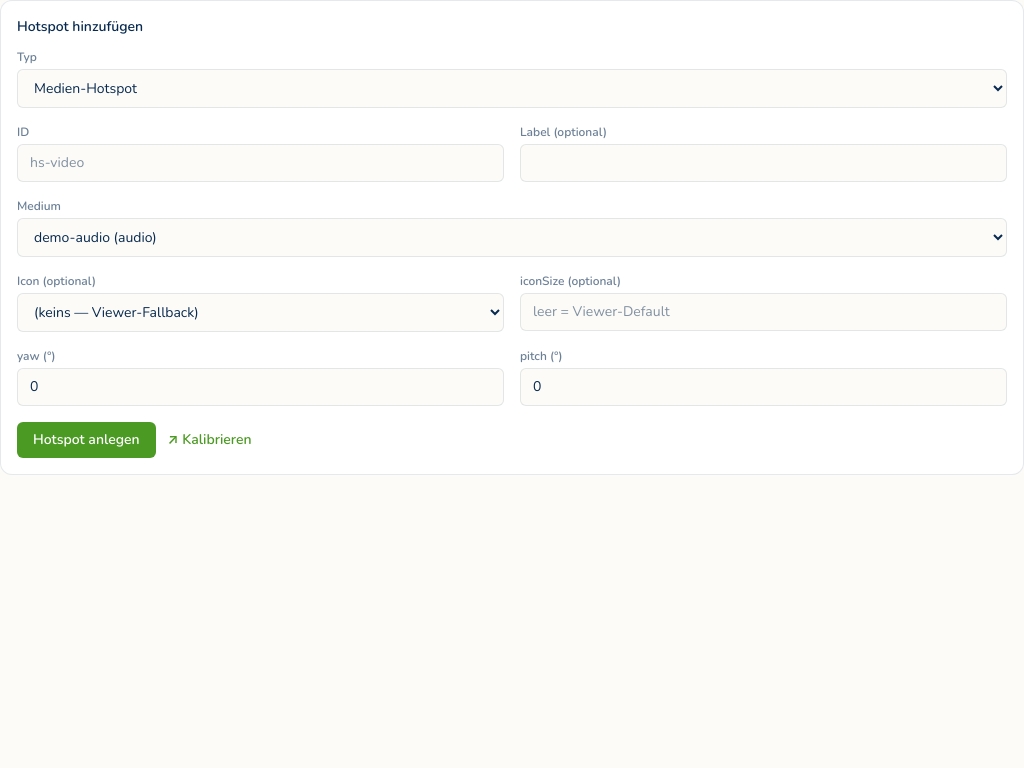
StationHotspotAddForm › erfolgreicher Submit zeigt Erfolgsmeldung
This screenshot has width=1024, height=768.
Type "hs-neu" into the field labelled "ID". click: (260, 163)
box: [17, 144, 504, 182]
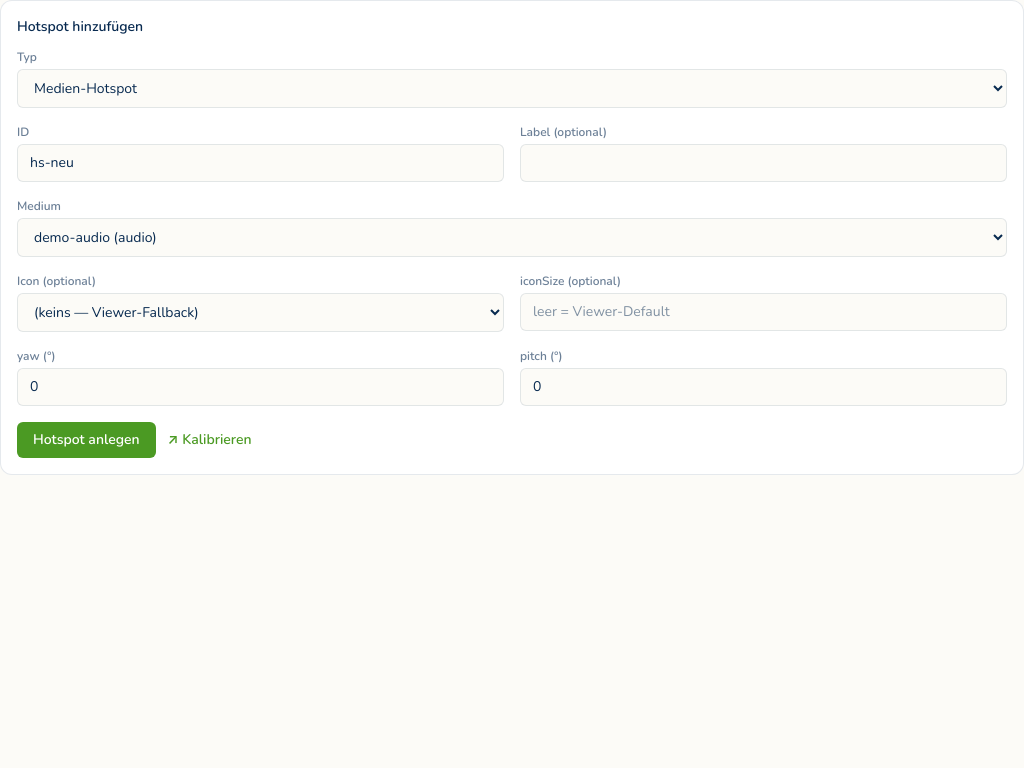
Click the button "Hotspot anlegen". click: (86, 440)
box: [17, 422, 156, 458]
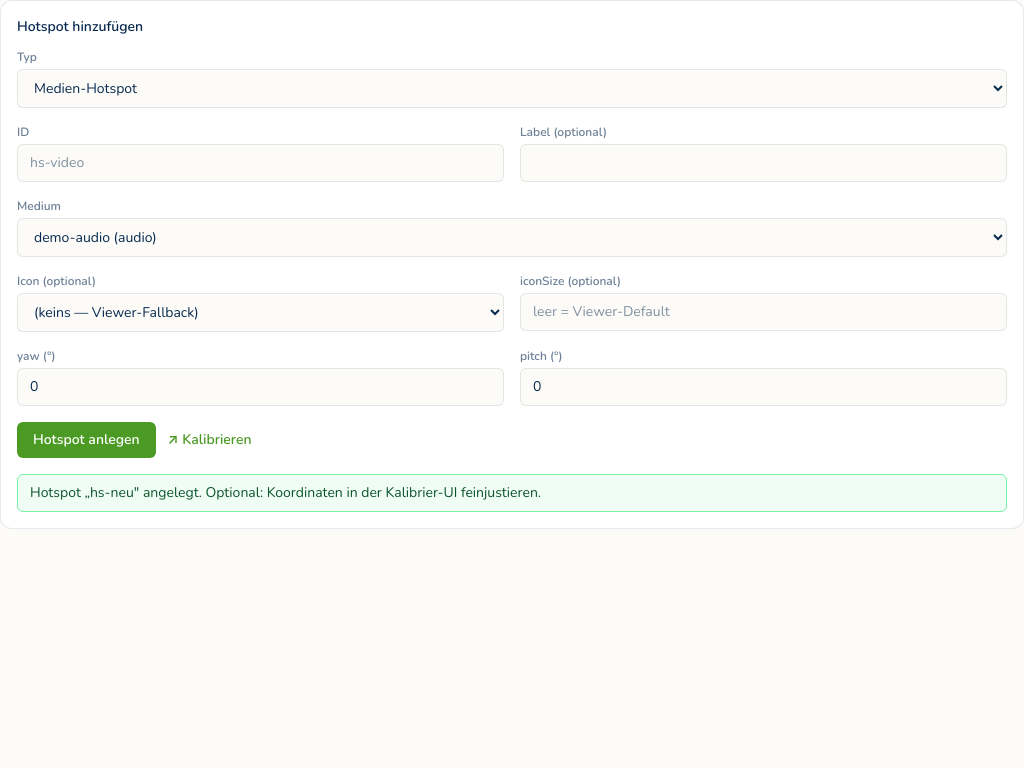
Expected: the text "Hotspot „hs-neu\" angelegt" is shown, [30, 483, 541, 502]
